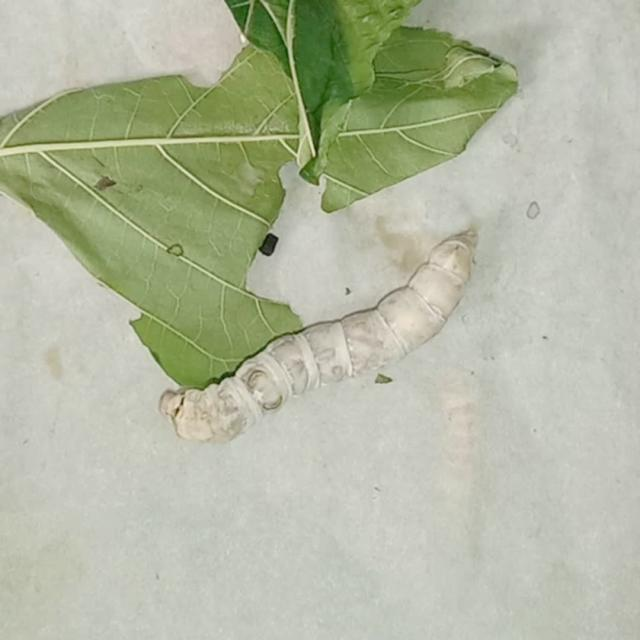Grasserie: (146, 218, 487, 453)
